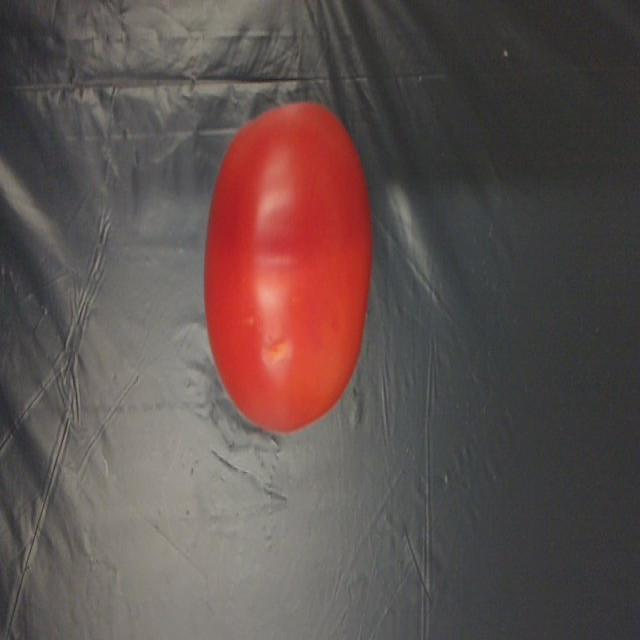kirmizi: (184, 88, 399, 444)
